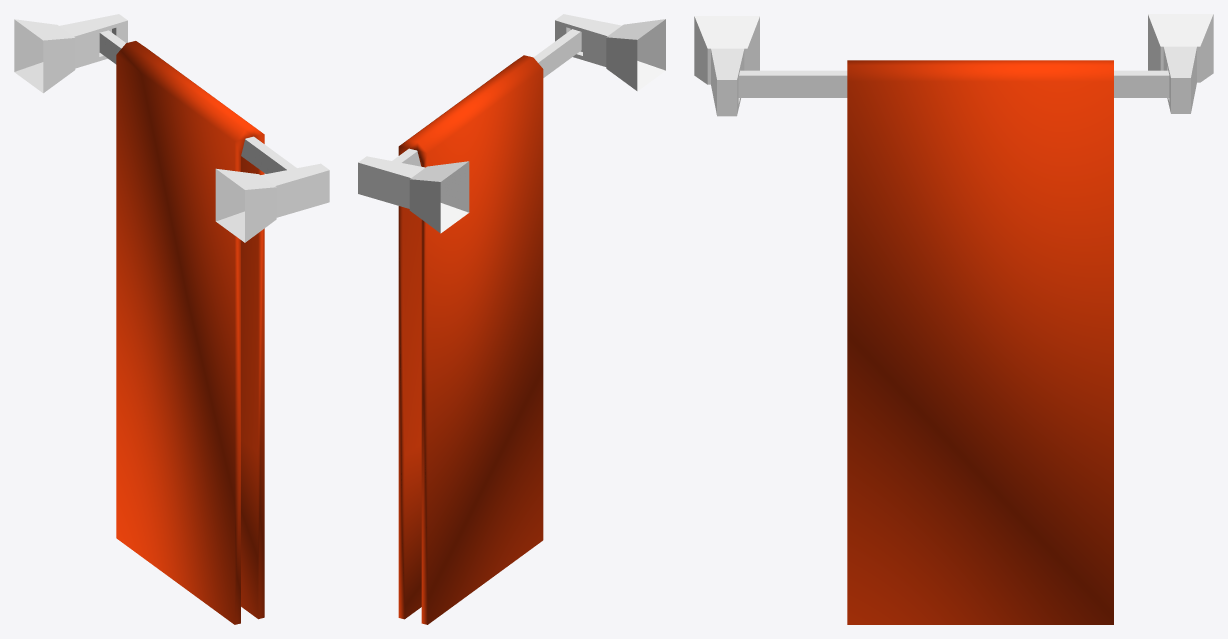
Rendered from towelrack 1.dae.
3 views of the same model, side by side, from view 1: azimuth 30°, elevation 25°; view 2: azimuth 150°, elevation 25°; view 3: azimuth 270°, elevation 25° (orthographic). The views are drawn at different scales.
Visible parts, largest first — view 1: Component_6, Component_2, Component_3, Component_1; view 2: Component_6, Component_3, Component_2, Component_1; view 3: Component_6, Component_3, Component_2, Component_1.
Boxes of the visible parts, x1,y1,x2,y2 form: Component_6: (116, 41, 264, 624); Component_2: (215, 163, 329, 242); Component_3: (14, 14, 127, 93); Component_1: (99, 30, 296, 173); Component_6: (398, 55, 543, 624); Component_3: (358, 156, 469, 233); Component_2: (555, 14, 665, 91); Component_1: (392, 29, 581, 166); Component_6: (847, 60, 1113, 624); Component_3: (1148, 14, 1213, 113); Component_2: (694, 16, 759, 116); Component_1: (738, 70, 1169, 97).
Size of the model in its own units: 3.31 by 13.93 by 16.67.
